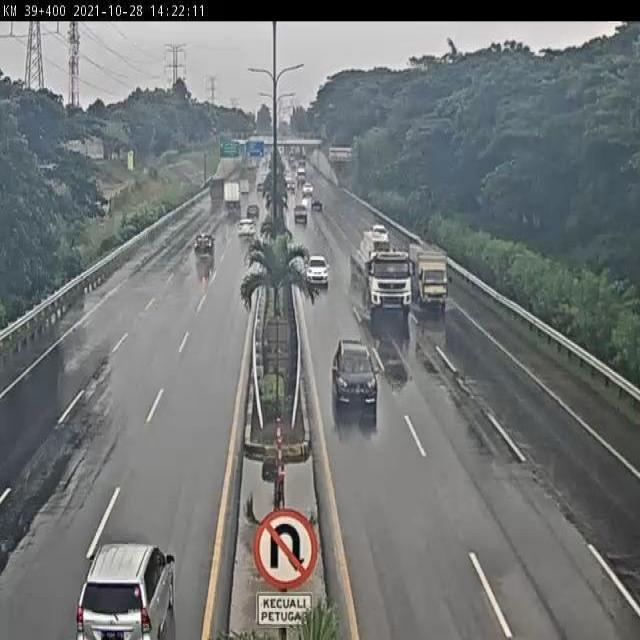car: (328, 335, 379, 409), (303, 251, 331, 289), (193, 229, 217, 260)
truck-s-: (408, 236, 450, 316)
truck-xl-: (349, 226, 419, 322)
